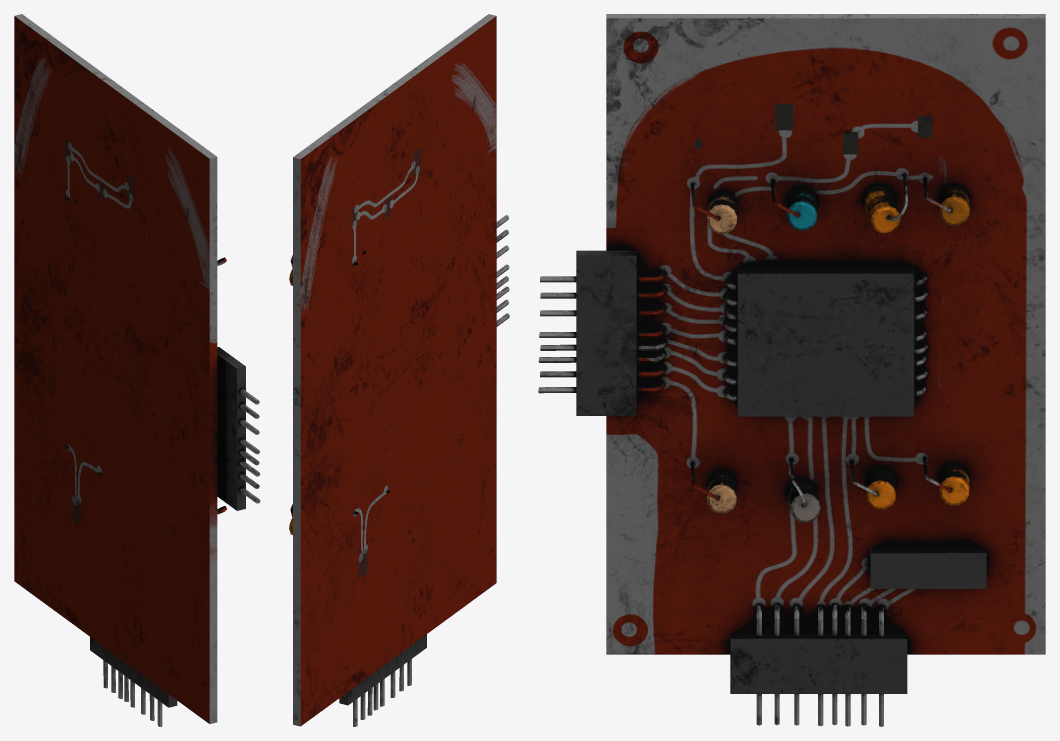
Rendered from 1794848221905_red_electronic_board.glb.
The picture shows the model from 3 angles, left to right: view 1: azimuth 30°, elevation 25°; view 2: azimuth 150°, elevation 25°; view 3: azimuth 270°, elevation 25°; orthographic projection. The views are drawn at different scales.
Visible parts, largest first — view 1: Object_2; view 2: Object_2; view 3: Object_2.
Part boxes in pixels (x1,y1,x2,y2): Object_2: (14, 14, 260, 726); Object_2: (289, 14, 509, 726); Object_2: (538, 14, 1045, 726).
Size of the model in its own units: 0.2416 by 2.2 by 1.44.
1 material, 1 textured.
